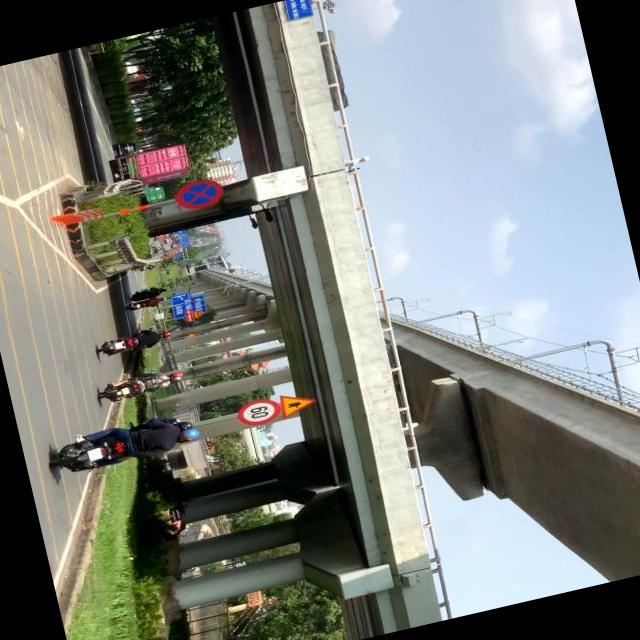P-127: (238, 395, 278, 428)
P-130: (174, 176, 225, 214)
W-207b: (276, 387, 318, 422)
